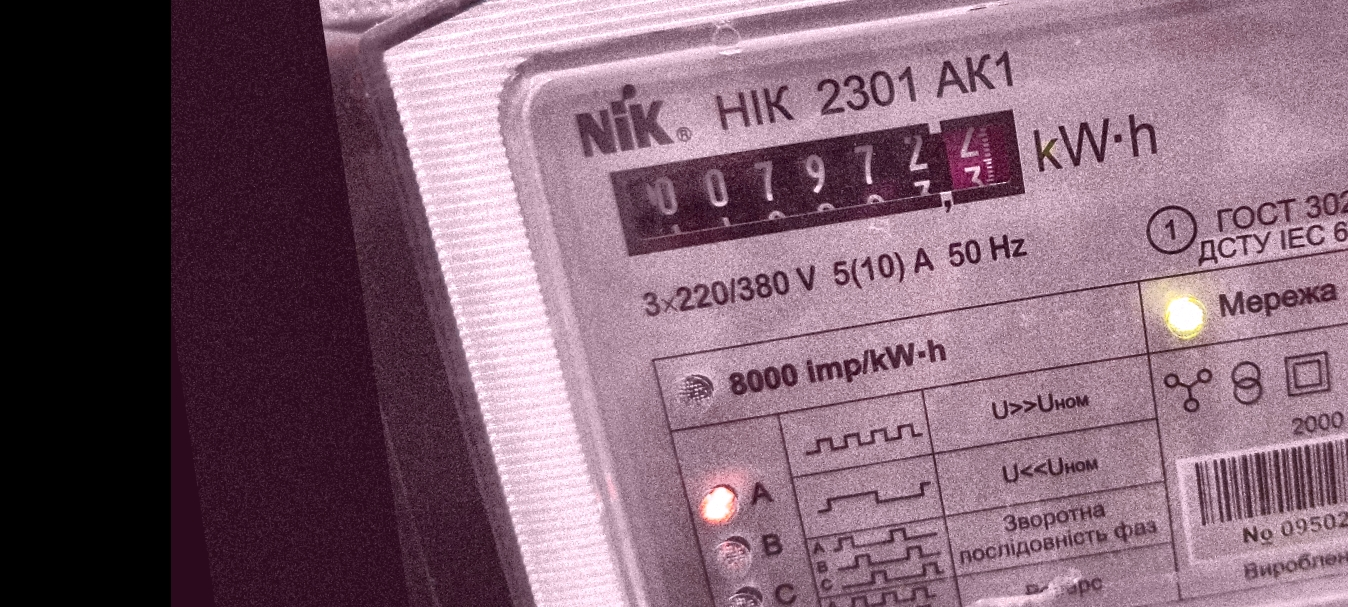0: (651, 172, 683, 217), (702, 164, 732, 209)
2: (903, 132, 931, 173), (954, 124, 981, 161)
3: (961, 161, 987, 189)
7: (851, 140, 883, 189), (751, 156, 782, 204)
9: (802, 149, 830, 195)
screen: (592, 94, 1046, 273)
